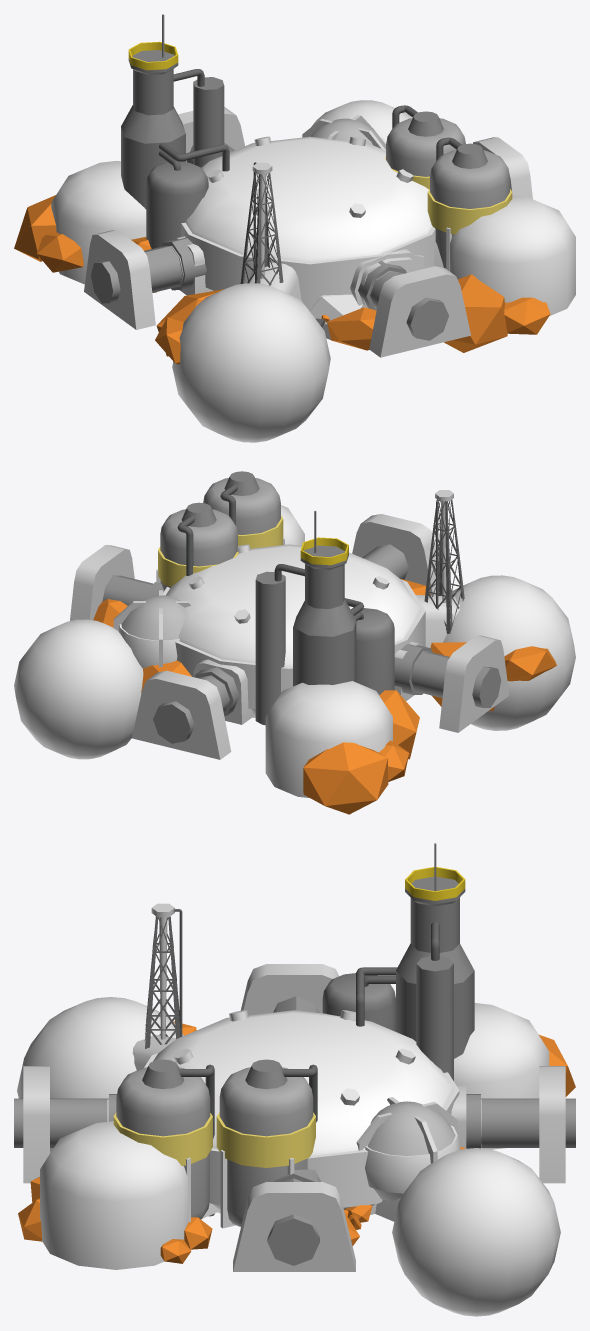
File: MainBase.glb
3 renders of one model, top to bottom at view 1: azimuth 30°, elevation 25°; view 2: azimuth 150°, elevation 25°; view 3: azimuth 270°, elevation 25°, orthographic. The views are drawn at different scales.
Visible parts, largest first — view 1: Tunnel.018, Sphere.002, Cylinder.016, Cube.050, Tunnel.019, Icosphere.005, Cylinder.011, Tunnel.024, Tunnel.016, Cylinder.012, Plane.014, Sphere.003 (+9 smaller); view 2: Cube.050, Cylinder.016, Tunnel.018, Sphere.003, Sphere.002, Icosphere.005, Tunnel.024, Tunnel.016, Cylinder.012, Sphere.001, Cylinder.011, Plane.014 (+7 smaller); view 3: Tunnel.018, Sphere.003, Tunnel.019, Cube.050, Cylinder.016, Cylinder.012, Tunnel.016, Sphere.002, Cylinder.011, Sphere.001, Tunnel.024, Icosphere.005 (+8 smaller).
Boxes of the visible parts, x1=… form: Tunnel.018: x1=181, y1=136, x2=435, y2=309; Sphere.002: x1=172, y1=283, x2=330, y2=442; Cylinder.016: x1=121, y1=14, x2=224, y2=248; Cube.050: x1=84, y1=107, x2=532, y2=357; Tunnel.019: x1=450, y1=195, x2=575, y2=315; Icosphere.005: x1=14, y1=195, x2=550, y2=364; Cylinder.011: x1=427, y1=143, x2=512, y2=268; Tunnel.024: x1=51, y1=160, x2=146, y2=284; Tunnel.016: x1=91, y1=143, x2=448, y2=340; Cylinder.012: x1=385, y1=111, x2=465, y2=189; Plane.014: x1=240, y1=172, x2=283, y2=285; Sphere.003: x1=311, y1=100, x2=411, y2=141; Cube.050: x1=70, y1=514, x2=509, y2=759; Cylinder.016: x1=255, y1=510, x2=394, y2=725; Tunnel.018: x1=163, y1=544, x2=425, y2=717; Sphere.003: x1=14, y1=619, x2=143, y2=759; Sphere.002: x1=443, y1=575, x2=575, y2=730; Icosphere.005: x1=93, y1=579, x2=556, y2=814; Tunnel.024: x1=265, y1=681, x2=392, y2=797; Tunnel.016: x1=102, y1=544, x2=501, y2=743; Cylinder.012: x1=158, y1=502, x2=238, y2=590; Sphere.001: x1=113, y1=590, x2=191, y2=668; Cylinder.011: x1=203, y1=471, x2=283, y2=548; Plane.014: x1=424, y1=499, x2=464, y2=633; Tunnel.018: x1=144, y1=1010, x2=459, y2=1213; Sphere.003: x1=392, y1=1148, x2=560, y2=1316; Tunnel.019: x1=40, y1=1121, x2=188, y2=1269; Cube.050: x1=23, y1=964, x2=565, y2=1271; Cylinder.016: x1=322, y1=843, x2=474, y2=1080; Cylinder.012: x1=216, y1=1059, x2=315, y2=1226; Tunnel.016: x1=14, y1=996, x2=575, y2=1265; Sphere.002: x1=17, y1=997, x2=183, y2=1152; Cylinder.011: x1=113, y1=1059, x2=212, y2=1219; Sphere.001: x1=356, y1=1097, x2=460, y2=1214; Tunnel.024: x1=454, y1=1003, x2=549, y2=1149; Icosphere.005: x1=18, y1=1021, x2=575, y2=1263.
Size of the model in its own units: 6 by 4.24 by 5.99.
2 materials, 2 textured.
